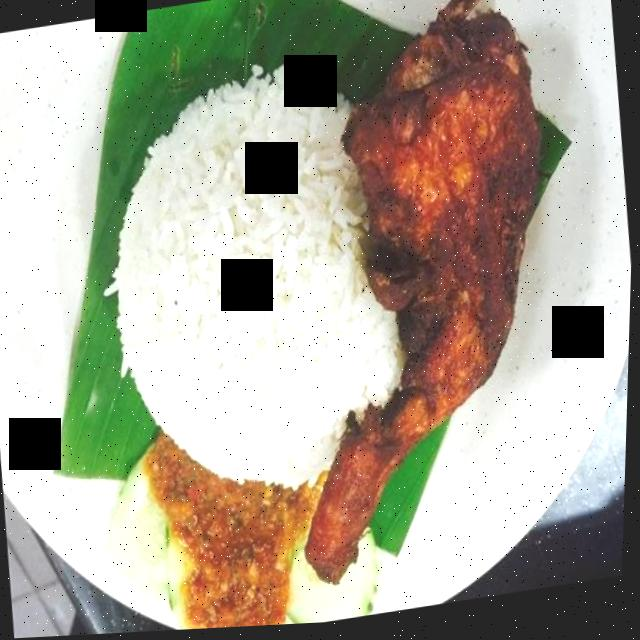Frango: (308, 23, 574, 515)
